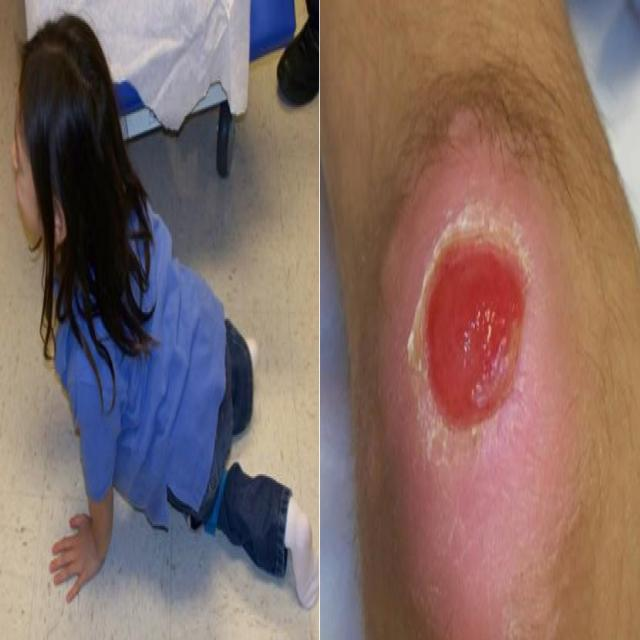stage-2: (420, 233, 525, 427)
